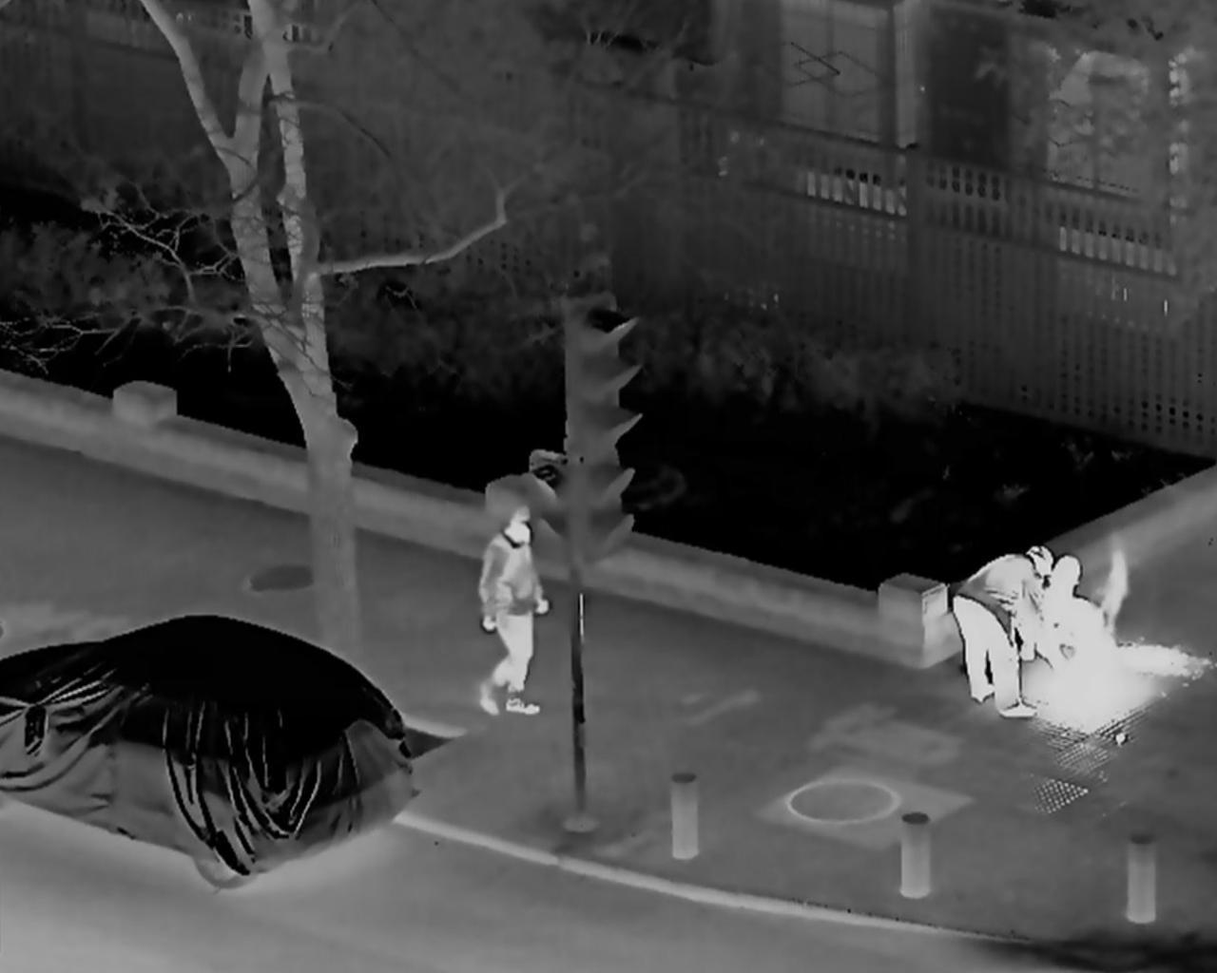person: (946, 541, 1050, 720), (470, 507, 545, 717), (1028, 555, 1106, 670)
